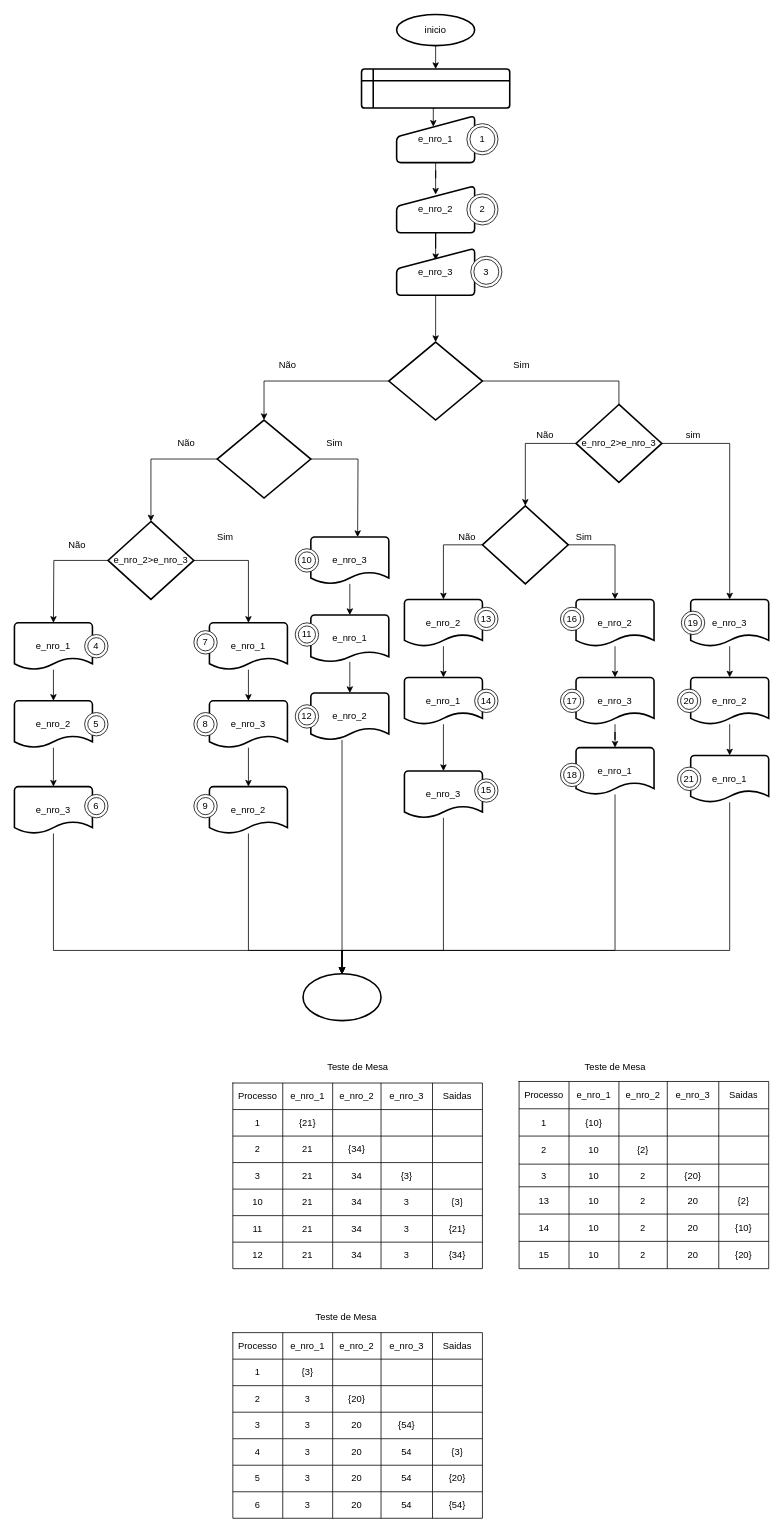
The diagram is 782 pixels wide and 1532 high, and some of its shapes have lost their labels. Each missing label, with the box of its shape:
e_nro1_>e-nro_3: (481, 505, 569, 584)
e_nro_1, e_nro_2, e_nro_3: (360, 68, 510, 108)
e_nro_1>e_nro_2: (388, 341, 483, 420)
e_nro_1>e_nro_3: (216, 419, 311, 498)
Fim: (302, 973, 381, 1021)
